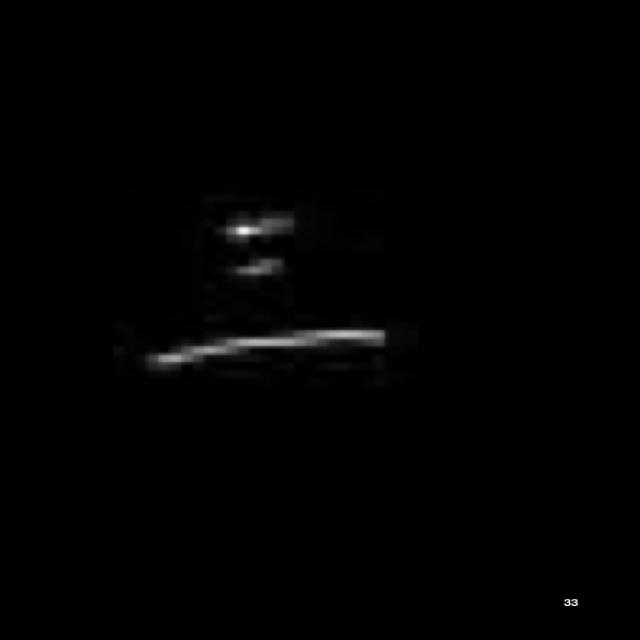3 -three-: (140, 207, 401, 375)
